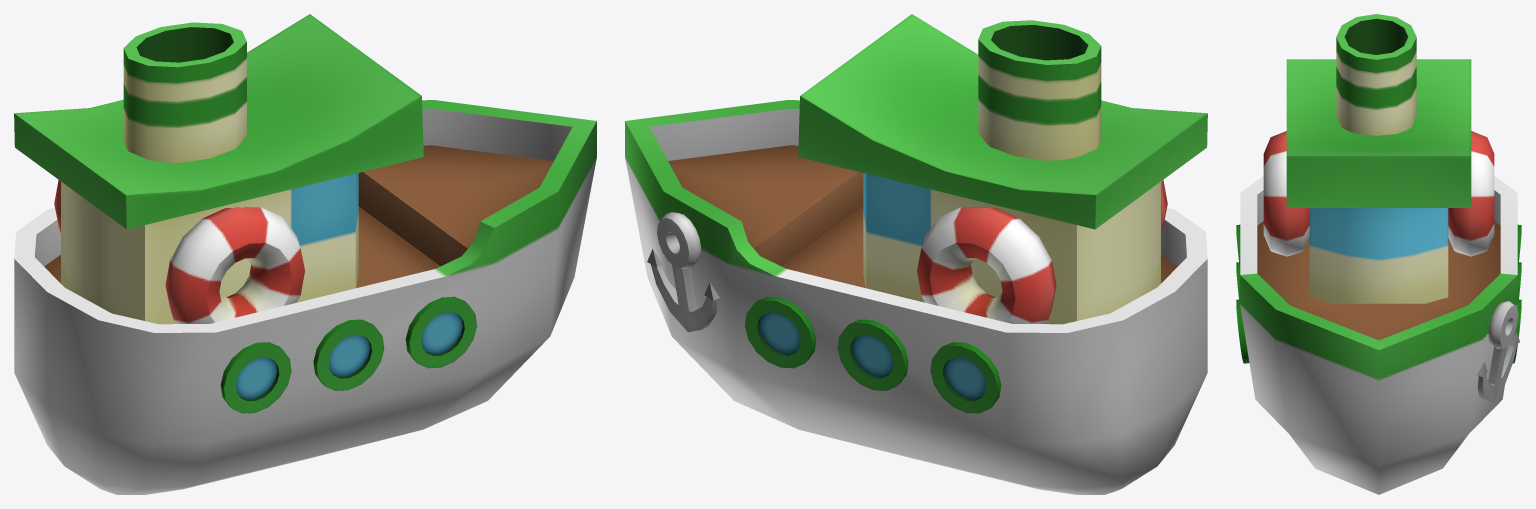
The model's file is ENV2010105.fbx.
3 renders of one model, left to right at view 1: azimuth 30°, elevation 25°; view 2: azimuth 150°, elevation 25°; view 3: azimuth 270°, elevation 25°, orthographic. The views are drawn at different scales.
Parts seen in each view (by area): view 1: smENV2010105; view 2: smENV2010105; view 3: smENV2010105.
Part boxes in pixels (x1,y1,x2,y2): smENV2010105: [14, 14, 596, 494]; smENV2010105: [625, 14, 1207, 494]; smENV2010105: [1236, 14, 1521, 494].
Bounding box in the file's own units: 22.26 × 16.71 × 12.13.
1 material, 1 textured.
